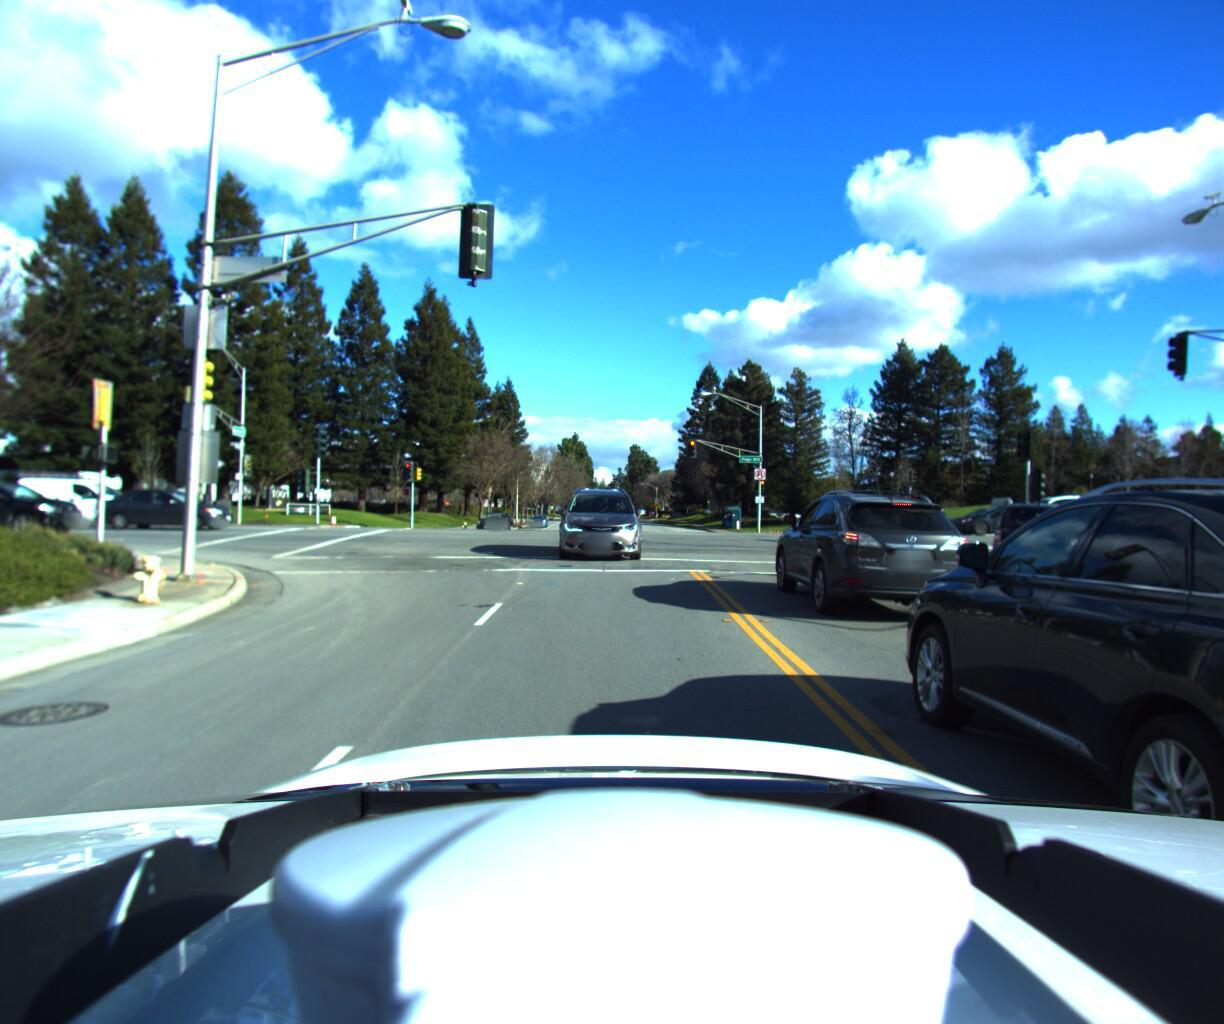car: (871, 449, 1224, 1024), (759, 482, 975, 633), (0, 468, 147, 526), (546, 475, 641, 559), (986, 495, 1083, 579), (85, 485, 238, 535), (985, 490, 1127, 539), (0, 474, 91, 537), (1091, 501, 1215, 538), (939, 501, 1045, 537), (925, 505, 1033, 536), (472, 510, 514, 535)
